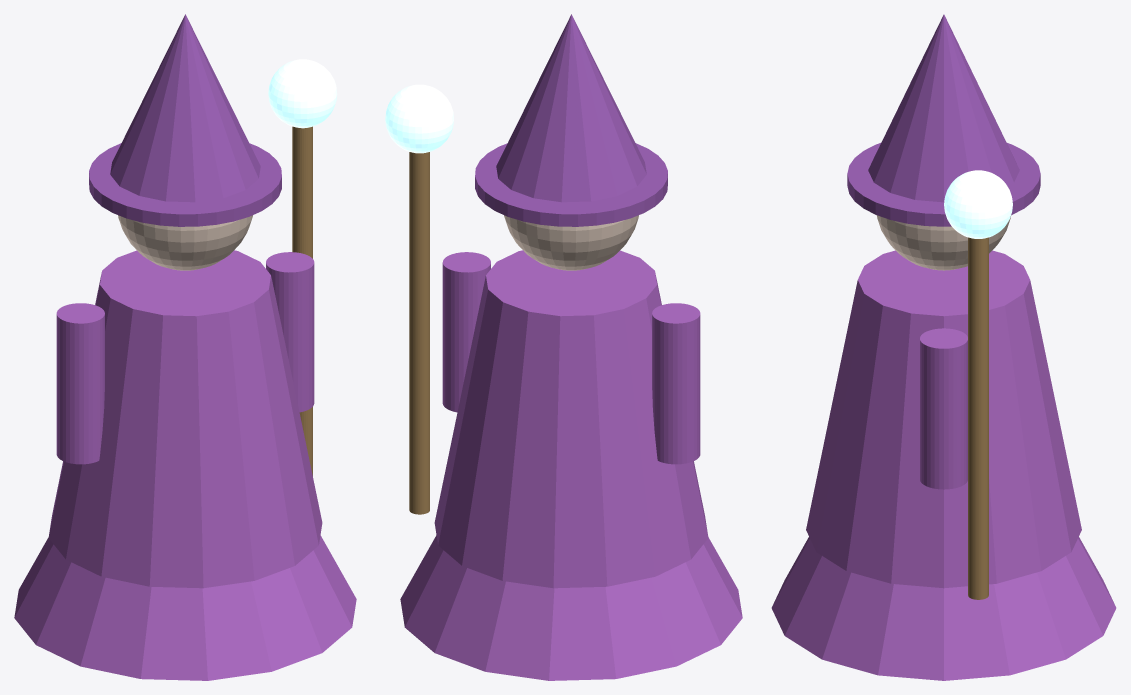
Rendered from hero_mage.glb.
3 renders of one model, left to right at view 1: azimuth 30°, elevation 25°; view 2: azimuth 150°, elevation 25°; view 3: azimuth 270°, elevation 25°, orthographic.
Parts seen in each view (by area): view 1: Mage_Body, Mage_RobeBottom, Mage_Hat, Mage_Arm_L, Mage_HatBrim, Mage_Arm_R, Mage_Head, Mage_Orb, Mage_Staff; view 2: Mage_Body, Mage_RobeBottom, Mage_Hat, Mage_Staff, Mage_Arm_L, Mage_HatBrim, Mage_Arm_R, Mage_Head, Mage_Orb; view 3: Mage_Body, Mage_RobeBottom, Mage_Hat, Mage_Staff, Mage_Arm_R, Mage_HatBrim, Mage_Orb, Mage_Head.
Part boxes in pixels (x1,y1,x2,y2): Mage_Body: (48, 250, 322, 588); Mage_RobeBottom: (14, 535, 356, 680); Mage_Hat: (110, 14, 260, 202); Mage_Arm_L: (56, 303, 104, 464); Mage_HatBrim: (89, 143, 281, 226); Mage_Arm_R: (266, 252, 314, 412); Mage_Head: (118, 215, 252, 270); Mage_Orb: (268, 59, 337, 128); Mage_Staff: (292, 126, 312, 475); Mage_Body: (434, 250, 708, 588); Mage_RobeBottom: (400, 535, 742, 680); Mage_Hat: (496, 14, 646, 202); Mage_Staff: (409, 152, 429, 514); Mage_Arm_L: (652, 303, 700, 464); Mage_HatBrim: (475, 143, 667, 226); Mage_Arm_R: (442, 252, 490, 412); Mage_Head: (504, 215, 638, 270); Mage_Orb: (385, 84, 453, 153); Mage_Body: (806, 250, 1081, 588); Mage_RobeBottom: (771, 537, 1116, 680); Mage_Hat: (868, 14, 1019, 202); Mage_Staff: (968, 237, 988, 599); Mage_Arm_R: (920, 328, 967, 489); Mage_HatBrim: (847, 143, 1040, 226); Mage_Orb: (944, 170, 1012, 238); Mage_Head: (876, 215, 1011, 270).
Size of the model in its own units: 1.05 by 2 by 1.
